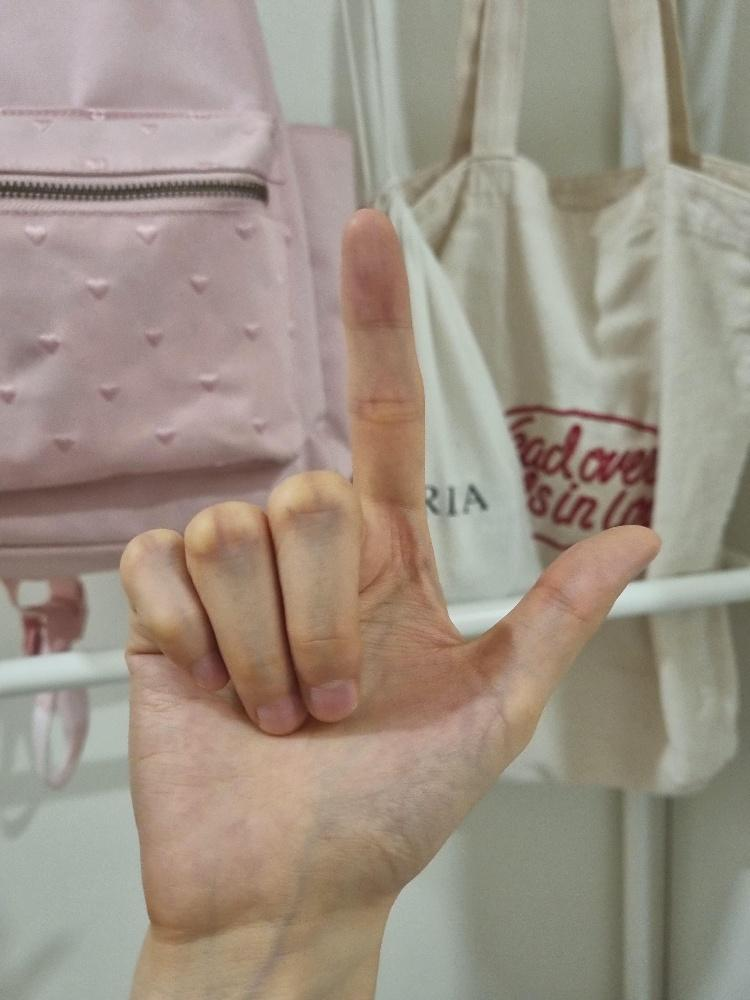l: (118, 206, 661, 928)
